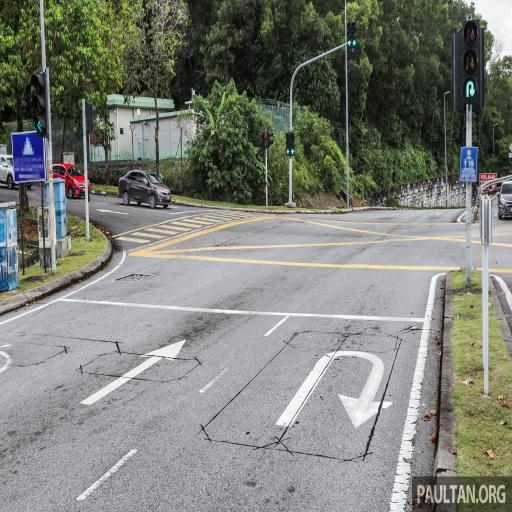car: (118, 170, 172, 208), (52, 163, 90, 200), (0, 154, 32, 189), (497, 180, 512, 220)
traffic light: (460, 19, 480, 110), (31, 69, 48, 138), (346, 21, 356, 47), (286, 132, 294, 156)
